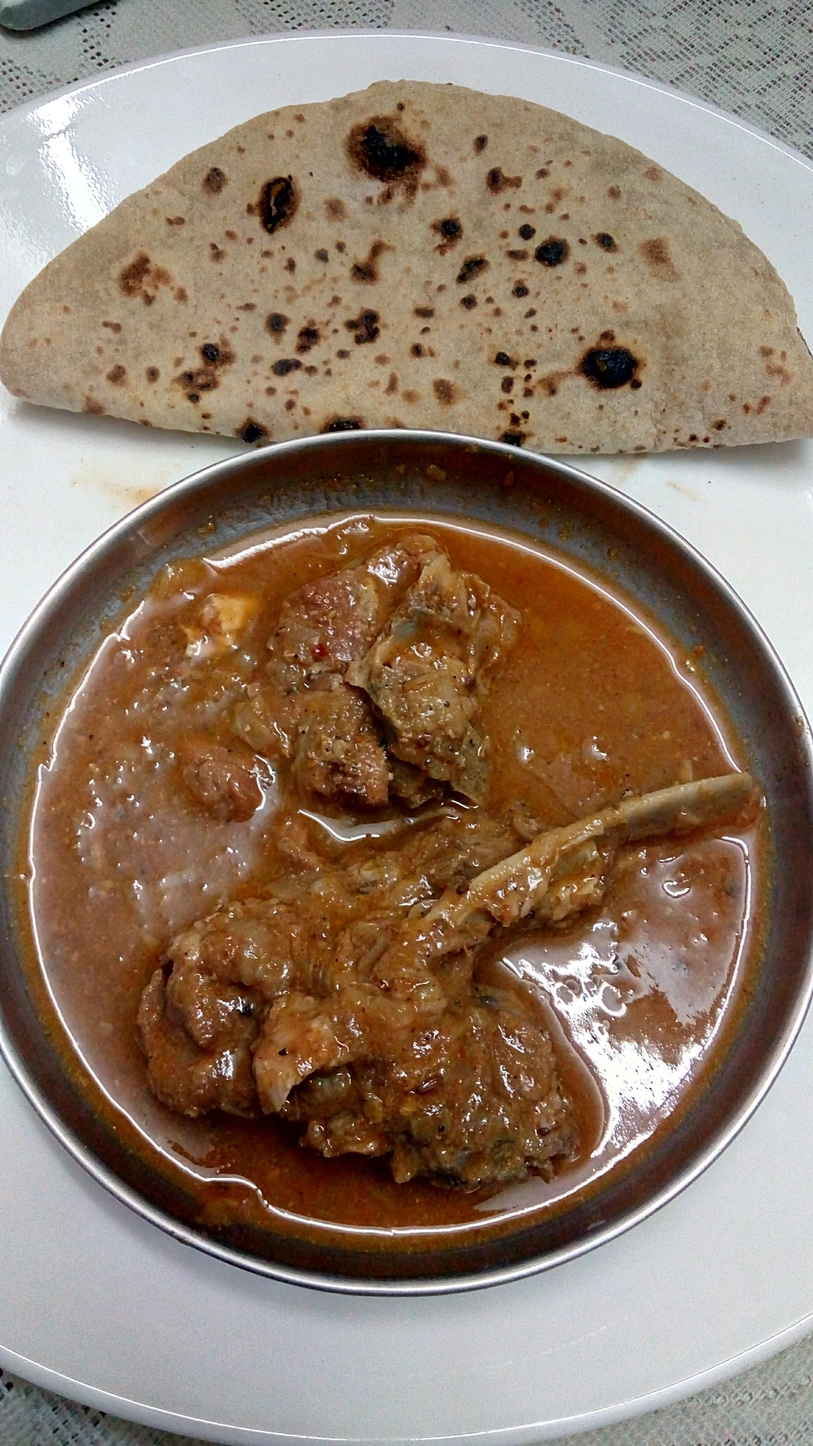MuttonCurry: (33, 504, 755, 1225)
